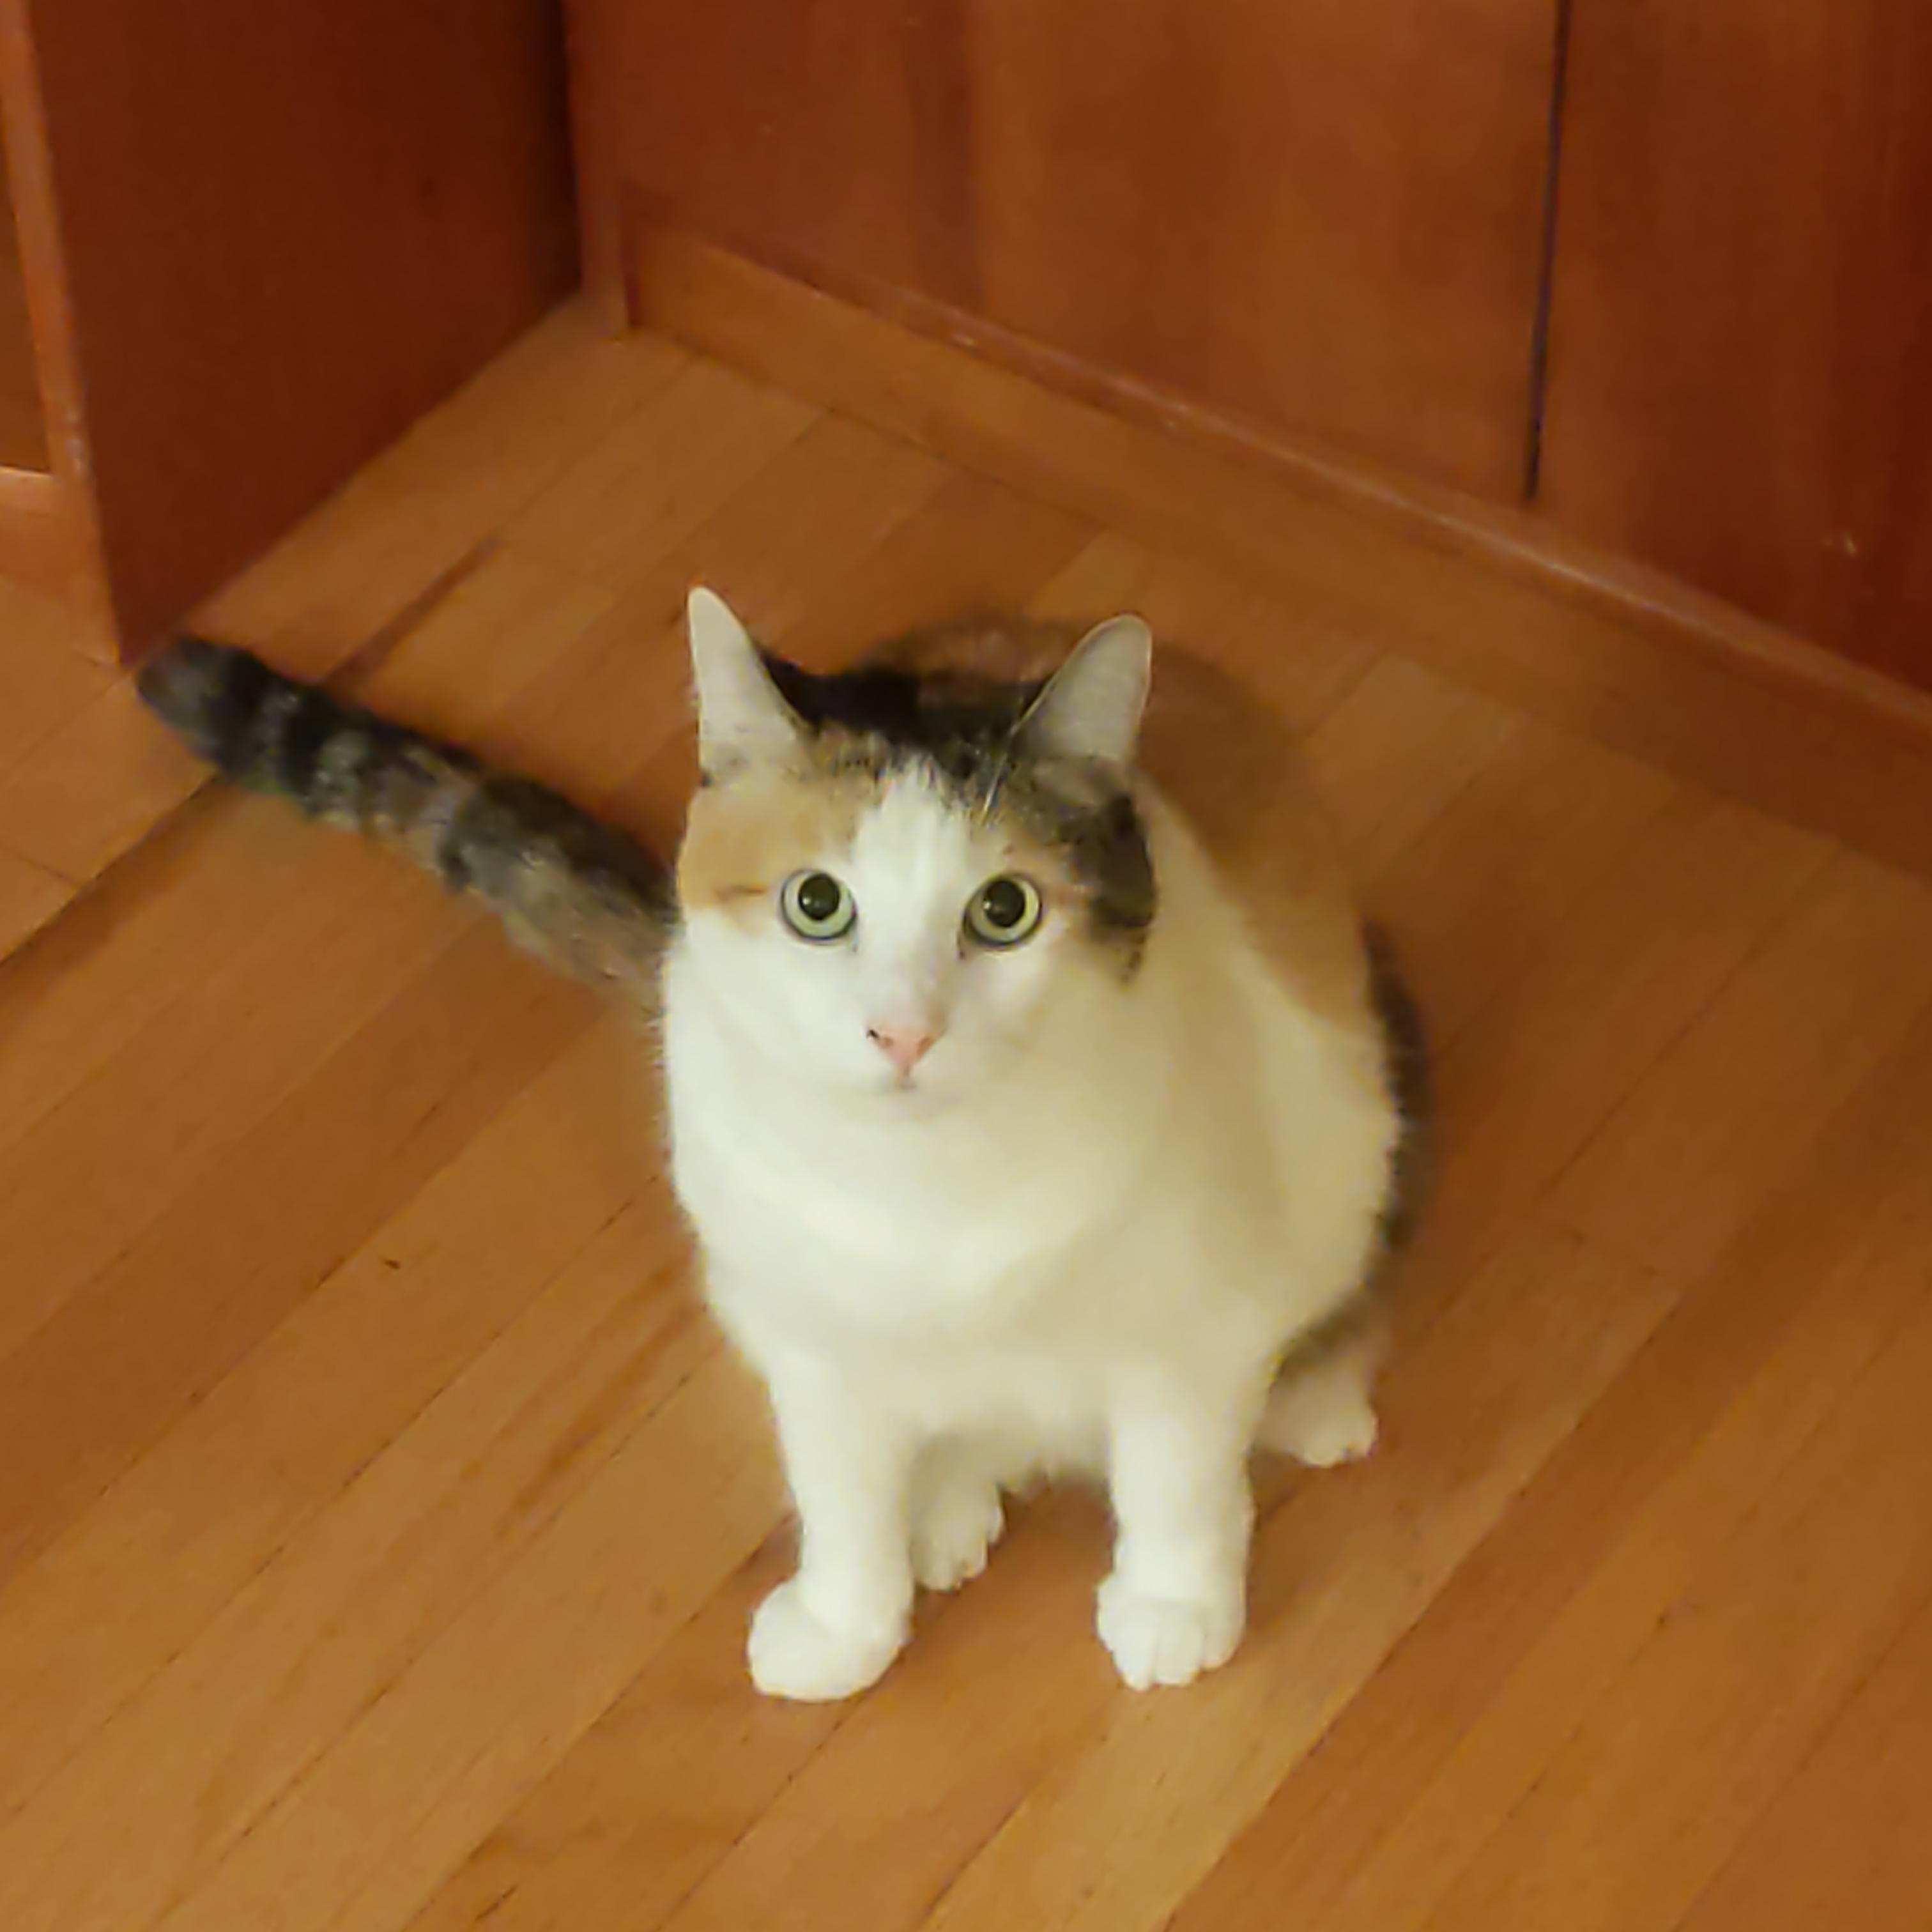Calico: (133, 584, 1440, 1706)
